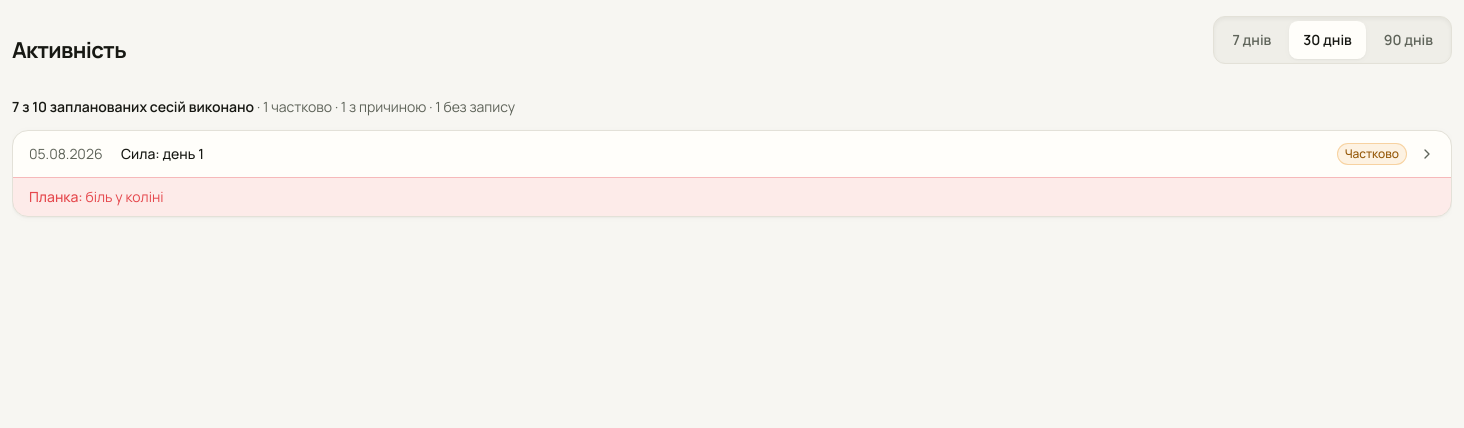
Test: ClientActivity › renders all four exercise states distinctly
Click the button "05.08.2026 Сила: день 1 Частково" at [66, 154], box [13,131,1451,177]
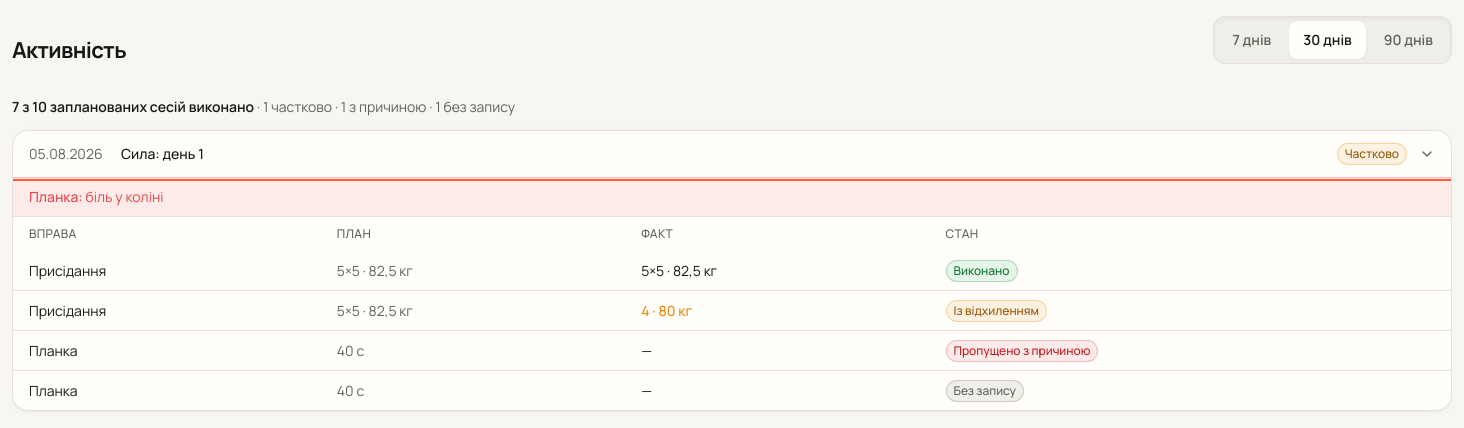
Check: the text "Виконано" is shown, box [946,260,1018,282]
Check: the text "Із відхиленням" is shown, box [946,300,1047,322]
Check: the text "Пропущено з причиною" is shown, box [946,340,1098,362]
